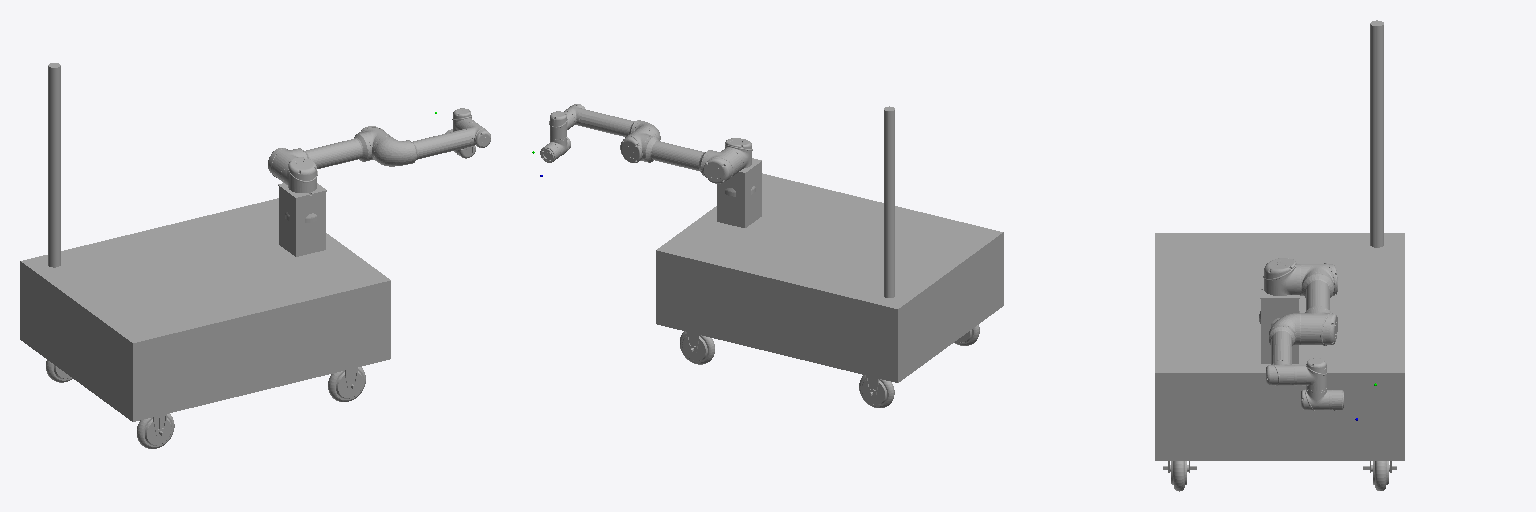
URDF robot description (ur5e):
<?xml version="1.0" encoding="utf-8"?>
<!-- =================================================================================== -->
<!-- |    This document was autogenerated by xacro from ./ur5e_robot.urdf.xacro        | -->
<!-- |    EDITING THIS FILE BY HAND IS NOT RECOMMENDED                                 | -->
<!-- =================================================================================== -->
<robot name="ur5e" xmlns:xacro="http://ros.org/wiki/xacro">
  <gazebo>
    <plugin filename="libgazebo_ros_control.so" name="ros_control">
      <!--robotNamespace>/</robotNamespace-->
      <!--robotSimType>gazebo_ros_control/DefaultRobotHWSim</robotSimType-->
    </plugin>
    <!--
    <plugin name="gazebo_ros_power_monitor_controller" filename="libgazebo_ros_power_monitor.so">
      <alwaysOn>true</alwaysOn>
      <updateRate>1.0</updateRate>
      <timeout>5</timeout>
      <powerStateTopic>power_state</powerStateTopic>
      <powerStateRate>10.0</powerStateRate>
      <fullChargeCapacity>87.78</fullChargeCapacity>     
      <dischargeRate>-474</dischargeRate>
      <chargeRate>525</chargeRate>
      <dischargeVoltage>15.52</dischargeVoltage>
      <chargeVoltage>16.41</chargeVoltage>
    </plugin>
-->
  </gazebo>
  <!--property name="shoulder_height" value="0.089159" /-->
  <!--property name="shoulder_offset" value="0.13585" /-->
  <!-- shoulder_offset - elbow_offset + wrist_1_length = 0.10915 -->
  <!--property name="upper_arm_length" value="0.42500" /-->
  <!--property name="elbow_offset" value="0.1197" /-->
  <!-- CAD measured -->
  <!--property name="forearm_length" value="0.39225" /-->
  <!--property name="wrist_1_length" value="0.093" /-->
  <!-- CAD measured -->
  <!--property name="wrist_2_length" value="0.09465" /-->
  <!-- In CAD this distance is 0.930, but in the spec it is 0.09465 -->
  <!--property name="wrist_3_length" value="0.0823" /-->
  <!-- manually measured -->

  <link name="car_link">
    <visual>
      <geometry>
        <mesh filename="package://bit_robotcar/meshes/car_link.dae"/>
      </geometry>
      <material name="LightGrey">
        <color rgba="0.7 0.7 0.7 1.0"/>
      </material>
    </visual>
    <collision>
      <geometry>
        <mesh filename="package://bit_robotcar/meshes/car_link.dae"/>
      </geometry>
    </collision>
    <inertial>
      <mass value="379.0"/>
      <origin rpy="0 0 0" xyz="0.0 0.0 0.0"/>
      <inertia ixx="29.73" ixy="0.0" ixz="0.0" iyy="49.44" iyz="0.0" izz="71.42"/>
    </inertial>
  </link>
  <joint name="car_base_joint" type="fixed">
    <parent link="car_link"/>
    <child link="base_link"/>
    <origin rpy="0.0 0.0 0" xyz="0.45 0 0.490"/>
    <axis xyz="0 0 1"/>
    <limit effort="150.0" lower="-6.28318530718" upper="6.28318530718" velocity="3.15"/>
    <dynamics damping="0.0" friction="0.0"/>
  </joint>

  <link name="base_link">
    <visual>
      <geometry>
        <mesh filename="package://bit_robotcar/meshes/ur5e/visual/base.dae"/>
      </geometry>
      <material name="LightGrey">
        <color rgba="0.7 0.7 0.7 1.0"/>
      </material>
    </visual>
    <collision>
      <geometry>
        <mesh filename="package://bit_robotcar/meshes/ur5e/collision/base.stl"/>
      </geometry>
    </collision>
    <inertial>
      <mass value="4.0"/>
      <origin rpy="0 0 0" xyz="0.0 0.0 0.0"/>
      <inertia ixx="0.00443333156" ixy="0.0" ixz="0.0" iyy="0.00443333156" iyz="0.0" izz="0.0072"/>
    </inertial>
  </link>

  <joint name="shoulder_pan_joint" type="revolute">
    <parent link="base_link"/>
    <child link="shoulder_link"/>
    <origin rpy="0.0 0.0 0.0" xyz="0.0 0.0 0.163"/>
    <axis xyz="0 0 1"/>
    <limit effort="150.0" lower="-6.28318530718" upper="6.28318530718" velocity="3.14"/>
    <dynamics damping="0.0" friction="0.0"/>
  </joint>
  <link name="shoulder_link">
    <visual>
      <geometry>
        <mesh filename="package://bit_robotcar/meshes/ur5e/visual/shoulder.dae"/>
      </geometry>
      <material name="LightGrey">
        <color rgba="0.7 0.7 0.7 1.0"/>
      </material>
    </visual>
    <collision>
      <geometry>
        <mesh filename="package://bit_robotcar/meshes/ur5e/collision/shoulder.stl"/>
      </geometry>
    </collision>
    <inertial>
      <mass value="3.7"/>
      <origin rpy="0 0 0" xyz="0.0 0.0 0.0"/>
      <inertia ixx="0.010267495893" ixy="0.0" ixz="0.0" iyy="0.010267495893" iyz="0.0" izz="0.00666"/>
    </inertial>
  </link>
  <joint name="shoulder_lift_joint" type="revolute">
    <parent link="shoulder_link"/>
    <child link="upper_arm_link"/>
    <origin rpy="0.0 1.57079632679 0.0" xyz="0.0 0.138 0.0"/>
    <axis xyz="0 1 0"/>
    <limit effort="150.0" lower="-6.28318530718" upper="6.28318530718" velocity="3.14"/>
    <dynamics damping="0.0" friction="0.0"/>
  </joint>
  <link name="upper_arm_link">
    <visual>
      <geometry>
        <mesh filename="package://bit_robotcar/meshes/ur5e/visual/upperarm.dae"/>
      </geometry>
      <material name="LightGrey">
        <color rgba="0.7 0.7 0.7 1.0"/>
      </material>
    </visual>
    <collision>
      <geometry>
        <mesh filename="package://bit_robotcar/meshes/ur5e/collision/upperarm.stl"/>
      </geometry>
    </collision>
    <inertial>
      <mass value="8.393"/>
      <origin rpy="0 0 0" xyz="0.0 0.0 0.2125"/>
      <inertia ixx="0.133885781862" ixy="0.0" ixz="0.0" iyy="0.133885781862" iyz="0.0" izz="0.0151074"/>
    </inertial>
  </link>
  <joint name="elbow_joint" type="revolute">
    <parent link="upper_arm_link"/>
    <child link="forearm_link"/>
    <origin rpy="0.0 0.0 0.0" xyz="0.0 -0.131 0.425"/>
    <axis xyz="0 1 0"/>
    <limit effort="150.0" lower="-3.14159265359" upper="3.14159265359" velocity="3.14"/>
    <dynamics damping="0.0" friction="0.0"/>
  </joint>
  <link name="forearm_link">
    <visual>
      <geometry>
        <mesh filename="package://bit_robotcar/meshes/ur5e/visual/forearm.dae"/>
      </geometry>
      <material name="LightGrey">
        <color rgba="0.7 0.7 0.7 1.0"/>
      </material>
    </visual>
    <collision>
      <geometry>
        <mesh filename="package://bit_robotcar/meshes/ur5e/collision/forearm.stl"/>
      </geometry>
    </collision>
    <inertial>
      <mass value="2.275"/>
      <origin rpy="0 0 0" xyz="0.0 0.0 0.196"/>
      <inertia ixx="0.0311796208615" ixy="0.0" ixz="0.0" iyy="0.0311796208615" iyz="0.0" izz="0.004095"/>
    </inertial>
  </link>
  <joint name="wrist_1_joint" type="revolute">
    <parent link="forearm_link"/>
    <child link="wrist_1_link"/>
    <origin rpy="0.0 1.57079632679 0.0" xyz="0.0 0.0 0.392"/>
    <axis xyz="0 1 0"/>
    <limit effort="28.0" lower="-6.28318530718" upper="6.28318530718" velocity="6.28"/>
    <dynamics damping="0.0" friction="0.0"/>
  </joint>
  <link name="wrist_1_link">
    <visual>
      <geometry>
        <mesh filename="package://bit_robotcar/meshes/ur5e/visual/wrist1.dae"/>
      </geometry>
      <material name="LightGrey">
        <color rgba="0.7 0.7 0.7 1.0"/>
      </material>
    </visual>
    <collision>
      <geometry>
        <mesh filename="package://bit_robotcar/meshes/ur5e/collision/wrist1.stl"/>
      </geometry>
    </collision>
    <inertial>
      <mass value="1.219"/>
      <origin rpy="0 0 0" xyz="0.0 0.127 0.0"/>
      <inertia ixx="0.00255989897604" ixy="0.0" ixz="0.0" iyy="0.00255989897604" iyz="0.0" izz="0.0021942"/>
    </inertial>
  </link>
  <joint name="wrist_2_joint" type="revolute">
    <parent link="wrist_1_link"/>
    <child link="wrist_2_link"/>
    <origin rpy="0.0 0.0 0.0" xyz="0.0 0.127 0.0"/>
    <axis xyz="0 0 1"/>
    <limit effort="28.0" lower="-6.28318530718" upper="6.28318530718" velocity="6.28"/>
    <dynamics damping="0.0" friction="0.0"/>
  </joint>
  <link name="wrist_2_link">
    <visual>
      <geometry>
        <mesh filename="package://bit_robotcar/meshes/ur5e/visual/wrist2.dae"/>
      </geometry>
      <material name="LightGrey">
        <color rgba="0.7 0.7 0.7 1.0"/>
      </material>
    </visual>
    <collision>
      <geometry>
        <mesh filename="package://bit_robotcar/meshes/ur5e/collision/wrist2.stl"/>
      </geometry>
    </collision>
    <inertial>
      <mass value="1.219"/>
      <origin rpy="0 0 0" xyz="0.0 0.0 0.1"/>
      <inertia ixx="0.00255989897604" ixy="0.0" ixz="0.0" iyy="0.00255989897604" iyz="0.0" izz="0.0021942"/>
    </inertial>
  </link>
  <joint name="wrist_3_joint" type="revolute">
    <parent link="wrist_2_link"/>
    <child link="wrist_3_link"/>
    <origin rpy="0.0 0.0 0.0" xyz="0.0 0.0 0.1"/>
    <axis xyz="0 1 0"/>
    <limit effort="28.0" lower="-6.28318530718" upper="6.28318530718" velocity="6.28"/>
    <dynamics damping="0.0" friction="0.0"/>
  </joint>
  <link name="wrist_3_link">
    <visual>
      <geometry>
        <mesh filename="package://bit_robotcar/meshes/ur5e/visual/wrist3.dae"/>
      </geometry>
      <material name="LightGrey">
        <color rgba="0.7 0.7 0.7 1.0"/>
      </material>
    </visual>
    <collision>
      <geometry>
        <mesh filename="package://bit_robotcar/meshes/ur5e/collision/wrist3.stl"/>
      </geometry>
    </collision>
    <inertial>
      <mass value="0.1879"/>
      <origin rpy="1.57079632679 0 0" xyz="0.0 0.0771 0.0"/>
      <inertia ixx="9.89041005217e-05" ixy="0.0" ixz="0.0" iyy="9.89041005217e-05" iyz="0.0" izz="0.0001321171875"/>
    </inertial>
  </link>
  <joint name="grasping_frame_joint" type="fixed">
    <parent link="wrist_3_link"/>
    <child link ="grasping_frame"/>
    <origin xyz="0 0.09237 0" rpy="0 0 0"/>
  </joint>
  <link name="grasping_frame">
  <!-- this link refers to end effector.  -->
    <visual>
      <geometry>
        <mesh filename="package://bit_robotcar/meshes/ur5e/visual/endEffector_penzi.dae"/>
        <!-- <mesh filename="package://bit_robotcar/meshes/ur5/visual/endEffector.dae"/> -->
      </geometry>
      <material name="LightGrey">
        <color rgba="0.7 0.7 0.7 1.0"/>
      </material>
    </visual>
    <!-- <collision>
      <geometry>
        <mesh filename="package://bit_robotcar/meshes/ur5/collision/wrist3.stl"/>
      </geometry>
    </collision> -->
    <inertial>
      <mass value="0.1879"/>
      <origin rpy="0 0 0" xyz="0.0 162.25 0.0"/>
      <inertia ixx="0.0171364731454" ixy="0.0" ixz="0.0" iyy="0.0171364731454" iyz="0.0" izz="0.033822"/>
    </inertial>
  </link>
  <joint name="infrared_joint" type="fixed">
    <origin xyz="0.0 0.05147 0.077" rpy="0.0 0.0 0.0"/>
    <parent link="grasping_frame"/>
    <child link="infrared_link"/>
  </joint>
  <link name="infrared_link">
  <!-- this link refers to the surface of magnet -->
    <inertial>
      <mass value="1.219"/>
      <origin rpy="0 0 0" xyz="0.0 0.0 0.0"/>
      <inertia ixx="0.111172755531" ixy="0.0" ixz="0.0" iyy="0.111172755531" iyz="0.0" izz="0.21942"/>
    </inertial>
    <visual name="">
      <origin xyz="0.0 0.0 0.0" rpy="0.0 0.0 0.0"/>
      <geometry>
          <sphere radius="0.005"/>
      </geometry>
      <material name="">
        <color rgba="0.0 0.0 1.0 1.0"/>
        <texture filename=""/>
      </material>
    </visual>
  </link>
  <joint name="penzi_joint" type="fixed">
    <parent link="grasping_frame"/>
    <child link="penzi_link"/>
    <origin xyz="0.0 0.119 -0.0615 " rpy="0 0.0 0.0"/>
  </joint>
  <link name="penzi_link">
    <inertial>
      <mass value="0.1879"/>
      <origin rpy="0 0 0" xyz="0.0 0 0.0"/>
      <inertia ixx="0.0171364731454" ixy="0.0" ixz="0.0" iyy="0.0171364731454" iyz="0.0" izz="0.033822"/>
    </inertial>
    <visual name="">
      <origin xyz="0.0 0.0 0.0" rpy="0.0 0.0 0.0"/>
      <geometry>
          <sphere radius="0.005"/>
      </geometry>
      <material name="">
        <color rgba="0.0 1.0 0.0 1.0"/>
        <texture filename=""/>
      </material>
    </visual>
    <!-- <collision>
      <origin xyz="0.0 0.0 0.0" rpy="0.0 0.0 0.0"/>
      <geometry>
        <box size="0.0 0.0 0.0"/>
      </geometry>
    </collision> -->
  </link>

  <transmission name="shoulder_pan_trans">
    <type>transmission_interface/SimpleTransmission</type>
    <joint name="shoulder_pan_joint">
      <hardwareInterface>hardware_interface/PositionJointInterface</hardwareInterface>
    </joint>
    <actuator name="shoulder_pan_motor">
      <mechanicalReduction>1</mechanicalReduction>
    </actuator>
  </transmission>
  <transmission name="shoulder_lift_trans">
    <type>transmission_interface/SimpleTransmission</type>
    <joint name="shoulder_lift_joint">
      <hardwareInterface>hardware_interface/PositionJointInterface</hardwareInterface>
    </joint>
    <actuator name="shoulder_lift_motor">
      <mechanicalReduction>1</mechanicalReduction>
    </actuator>
  </transmission>
  <transmission name="elbow_trans">
    <type>transmission_interface/SimpleTransmission</type>
    <joint name="elbow_joint">
      <hardwareInterface>hardware_interface/PositionJointInterface</hardwareInterface>
    </joint>
    <actuator name="elbow_motor">
      <mechanicalReduction>1</mechanicalReduction>
    </actuator>
  </transmission>
  <transmission name="wrist_1_trans">
    <type>transmission_interface/SimpleTransmission</type>
    <joint name="wrist_1_joint">
      <hardwareInterface>hardware_interface/PositionJointInterface</hardwareInterface>
    </joint>
    <actuator name="wrist_1_motor">
      <mechanicalReduction>1</mechanicalReduction>
    </actuator>
  </transmission>
  <transmission name="wrist_2_trans">
    <type>transmission_interface/SimpleTransmission</type>
    <joint name="wrist_2_joint">
      <hardwareInterface>hardware_interface/PositionJointInterface</hardwareInterface>
    </joint>
    <actuator name="wrist_2_motor">
      <mechanicalReduction>1</mechanicalReduction>
    </actuator>
  </transmission>
  <transmission name="wrist_3_trans">
    <type>transmission_interface/SimpleTransmission</type>
    <joint name="wrist_3_joint">
      <hardwareInterface>hardware_interface/PositionJointInterface</hardwareInterface>
    </joint>
    <actuator name="wrist_3_motor">
      <mechanicalReduction>1</mechanicalReduction>
    </actuator>
  </transmission>
  <gazebo reference="shoulder_link">
    <selfCollide>true</selfCollide>
  </gazebo>
  <gazebo reference="upper_arm_link">
    <selfCollide>true</selfCollide>
  </gazebo>
  <gazebo reference="forearm_link">
    <selfCollide>true</selfCollide>
  </gazebo>
  <gazebo reference="wrist_1_link">
    <selfCollide>true</selfCollide>
  </gazebo>
  <gazebo reference="wrist_3_link">
    <selfCollide>true</selfCollide>
  </gazebo>
  <gazebo reference="wrist_2_link">
    <selfCollide>true</selfCollide>
  </gazebo>
  <gazebo reference="ee_link">
    <selfCollide>true</selfCollide>
  </gazebo>
</robot>

--- What the picture shows (computed from the rendered views, not written in the file) ---
The picture shows the robot from 3 angles, left to right: view 1: azimuth 30°, elevation 25°; view 2: azimuth 150°, elevation 25°; view 3: azimuth 270°, elevation 25°; orthographic projection.
Robot: ur5e — 11 links, 10 joints (6 revolute, 4 fixed); root link car_link; default pose: all joints at 0.
Visible links, largest first — view 1: car_link, forearm_link, upper_arm_link, shoulder_link; view 2: car_link, upper_arm_link, forearm_link, wrist_1_link; view 3: car_link, upper_arm_link, forearm_link, shoulder_link, wrist_1_link, wrist_2_link.
Link boxes in pixels (box(x1,y1,x2,y2)): car_link: box(20, 63, 390, 448); forearm_link: box(374, 122, 490, 166); upper_arm_link: box(268, 126, 392, 182); shoulder_link: box(281, 157, 317, 192); car_link: box(656, 106, 1003, 407); upper_arm_link: box(620, 127, 741, 183); forearm_link: box(564, 104, 660, 140); wrist_1_link: box(549, 111, 573, 140); car_link: box(1155, 20, 1404, 491); upper_arm_link: box(1297, 263, 1337, 345); forearm_link: box(1266, 313, 1296, 385); shoulder_link: box(1263, 258, 1300, 295); wrist_1_link: box(1297, 358, 1327, 392); wrist_2_link: box(1301, 389, 1331, 410).
Bounding box of the posed robot: 1.91 × 0.904 × 1.42 m (x, y, z).
Meshes: 9 distinct files referenced, 8 mesh visuals loaded (8 Collada DAE); not drawn: 1 (file found but could not be loaded).
